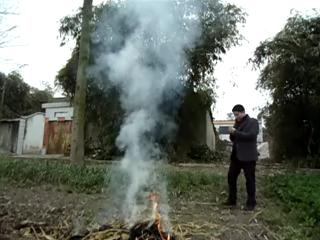yanwu: (90, 2, 201, 99)
